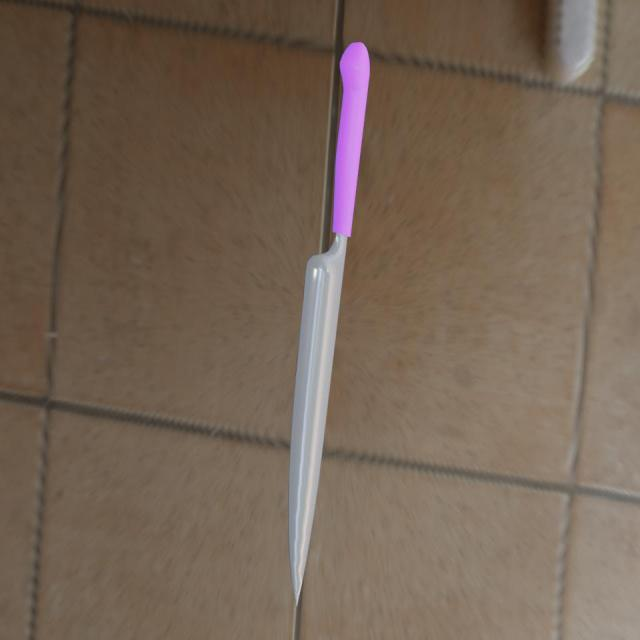knife: (333, 41, 370, 238)
